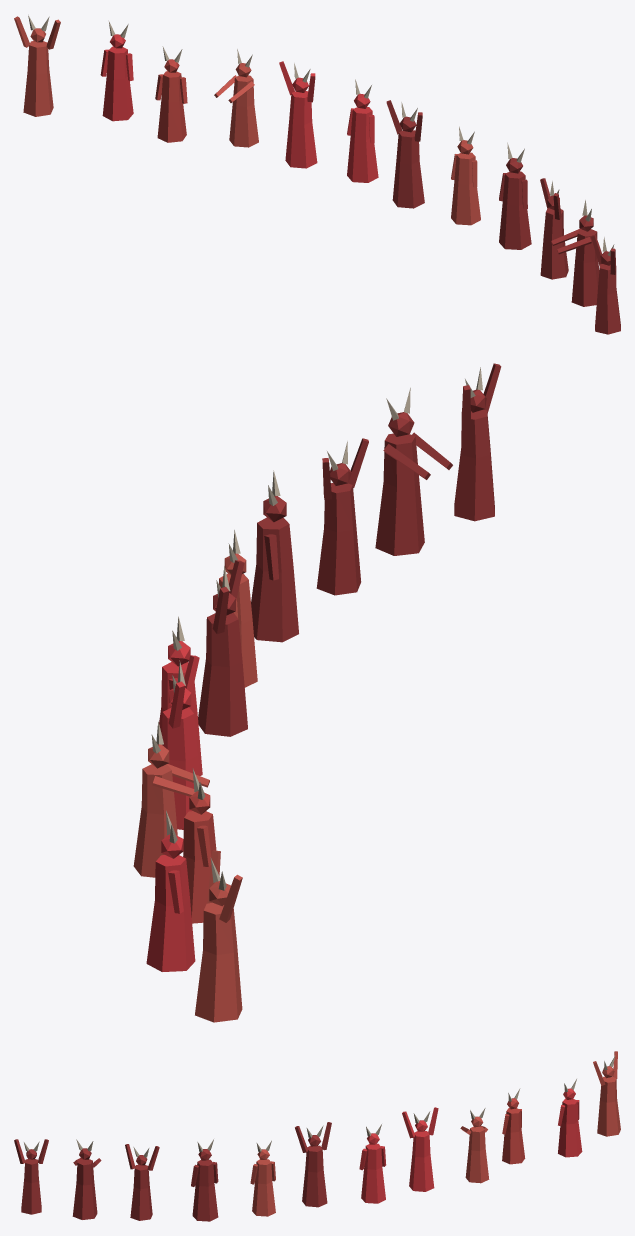
The model's file is Stands_8_1_0_Ice.obj.
3 views of the same model, one above another, from view 1: azimuth 30°, elevation 25°; view 2: azimuth 150°, elevation 25°; view 3: azimuth 270°, elevation 25° (orthographic). The views are drawn at different scales.
Parts seen in each view (by area): view 1: Stands_8_1_0_Ice; view 2: Stands_8_1_0_Ice; view 3: Stands_8_1_0_Ice.
Boxes of the visible parts, bbox=[...] form: Stands_8_1_0_Ice: bbox=[14, 15, 620, 334]; Stands_8_1_0_Ice: bbox=[133, 363, 501, 1022]; Stands_8_1_0_Ice: bbox=[14, 1051, 620, 1221].
Bounding box in the file's own units: 11.93 × 4.42 × 31.35.
Materials: 1 (1 with a texture image).
